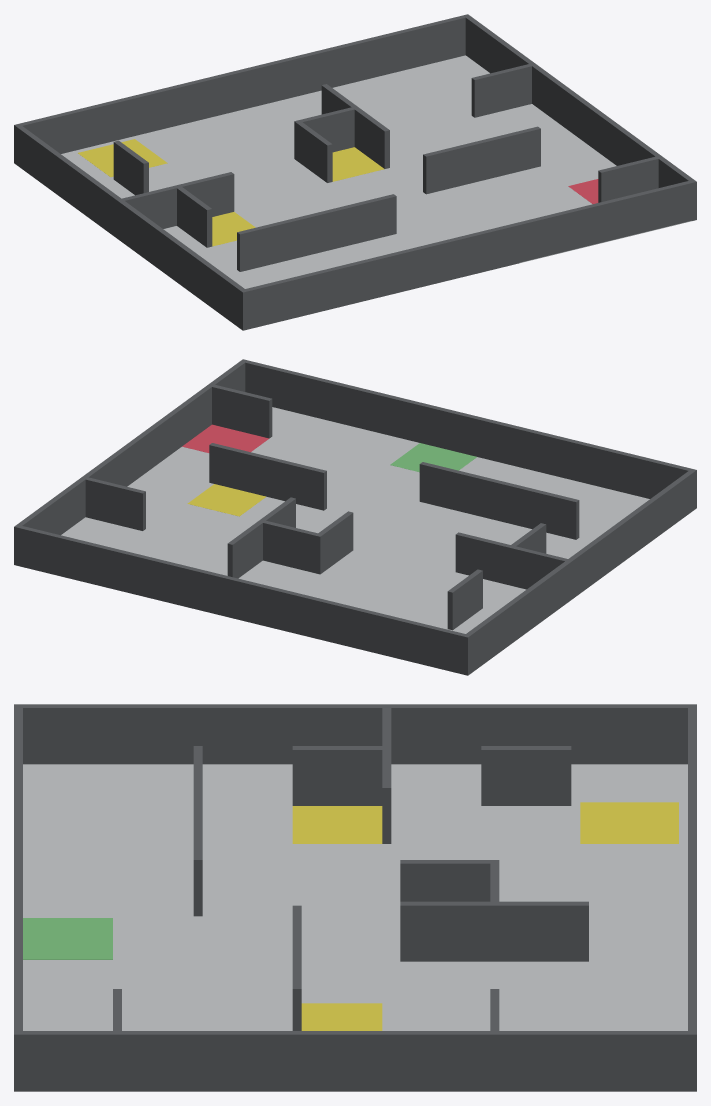
The model's file is high_movement.glb.
3 views of the same model, one above another, from view 1: azimuth 30°, elevation 25°; view 2: azimuth 150°, elevation 25°; view 3: azimuth 270°, elevation 25° (orthographic). The views are drawn at different scales.
Visible parts, largest first — view 1: Mesh_Mesh_head_geo.001_lambert2SG.001; view 2: Mesh_Mesh_head_geo.001_lambert2SG.001; view 3: Mesh_Mesh_head_geo.001_lambert2SG.001.
Part boxes in pixels (box(x1,y1,x2,y2)): Mesh_Mesh_head_geo.001_lambert2SG.001: box(14, 14, 696, 330); Mesh_Mesh_head_geo.001_lambert2SG.001: box(14, 359, 696, 675); Mesh_Mesh_head_geo.001_lambert2SG.001: box(14, 704, 696, 1091).
Bounding box in the file's own units: 8.7 × 0.7 × 7.6.
